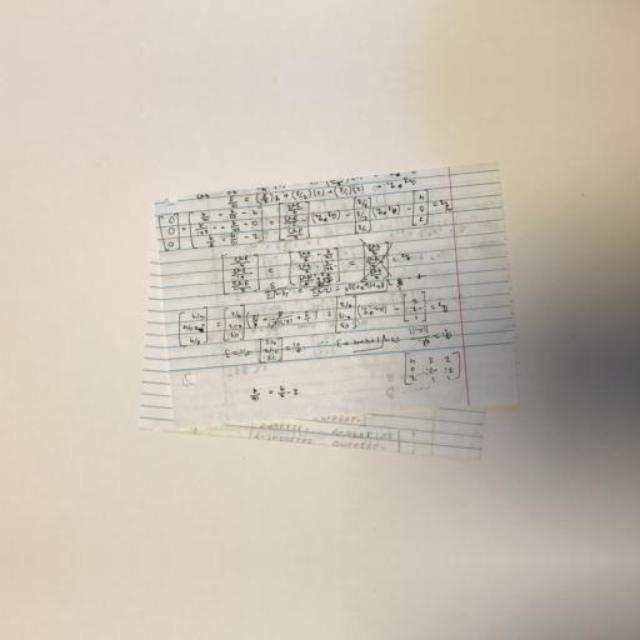paper: (121, 163, 518, 469)
